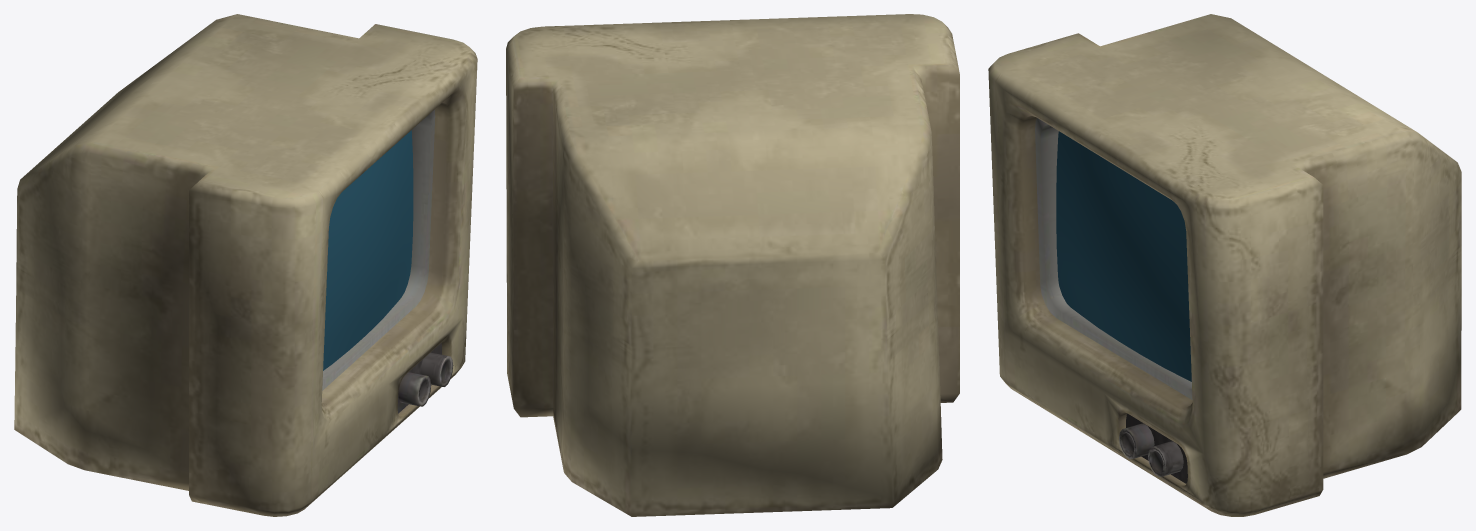
The model's file is retro_tv_a.glb.
3 views of the same model, side by side, from view 1: azimuth 30°, elevation 25°; view 2: azimuth 150°, elevation 25°; view 3: azimuth 270°, elevation 25° (orthographic). The views are drawn at different scales.
Visible parts, largest first — view 1: sec_tv_main_low; view 2: sec_tv_main_low; view 3: sec_tv_main_low.
Boxes of the visible parts, left/top/right/bottom form: sec_tv_main_low: left=14, top=14, right=477, bottom=516; sec_tv_main_low: left=506, top=14, right=959, bottom=516; sec_tv_main_low: left=988, top=14, right=1461, bottom=516.
Bounding box in the file's own units: 0.8867 × 0.6605 × 0.8849.
Materials: 2 (1 with a texture image).
